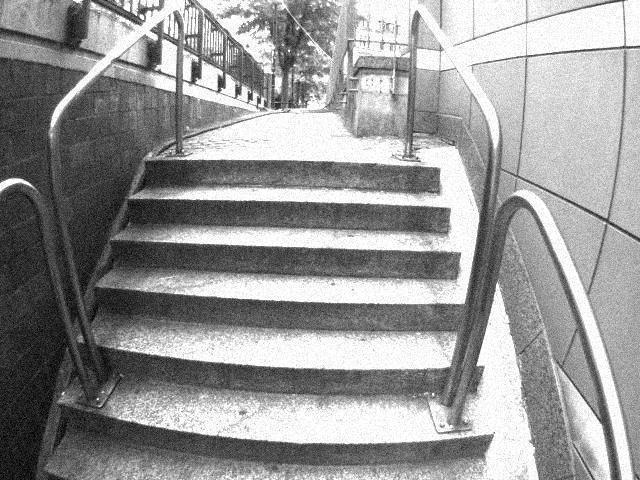Escaleras: (125, 163, 534, 479)
